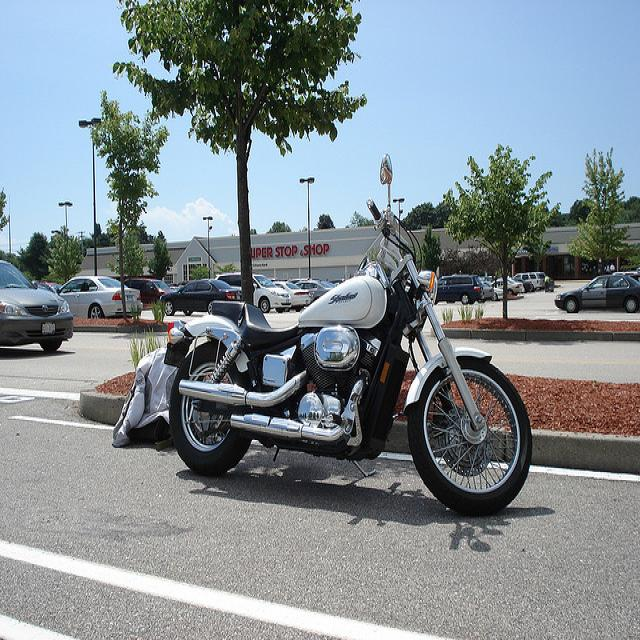motor: (165, 156, 536, 517)
